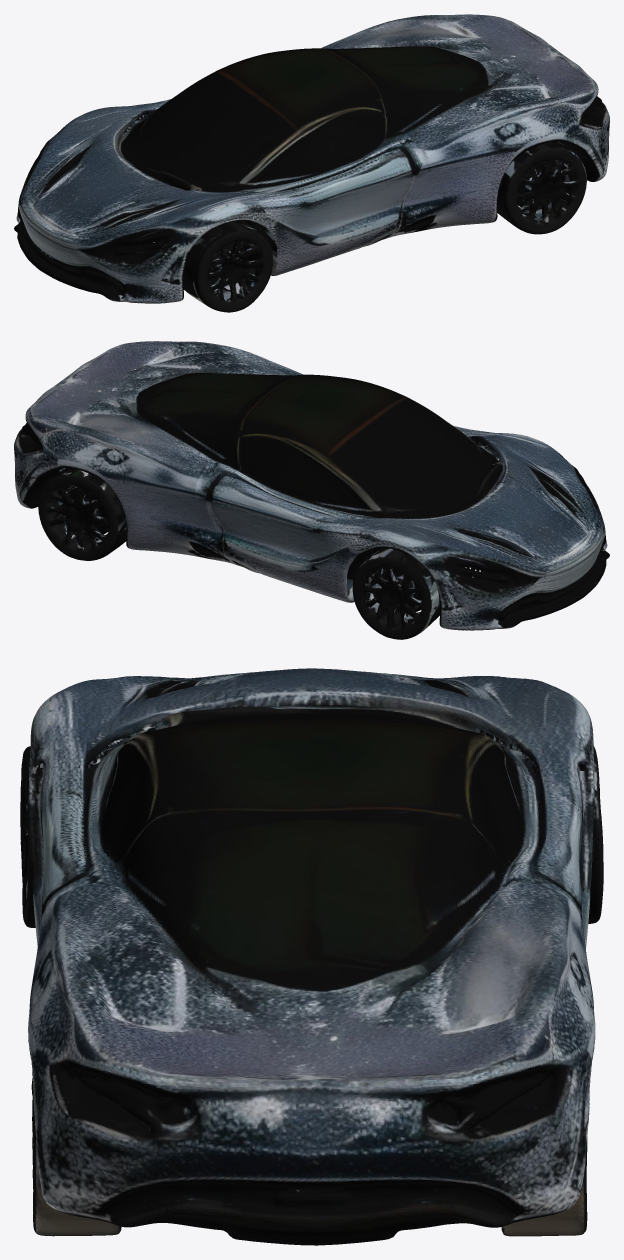
The model's file is mclaren720.glb.
3 views of the same model, one above another, from view 1: azimuth 30°, elevation 25°; view 2: azimuth 150°, elevation 25°; view 3: azimuth 270°, elevation 25° (orthographic). The views are drawn at different scales.
Visible parts, largest first — view 1: mclaren_final.glb; view 2: mclaren_final.glb; view 3: mclaren_final.glb.
Boxes of the visible parts, <box> form: mclaren_final.glb: <box>14,14,609,312</box>; mclaren_final.glb: <box>14,341,609,639</box>; mclaren_final.glb: <box>20,668,603,1245</box>.
Bounding box in the file's own units: 1.97 × 0.5361 × 0.926.
1 material, 1 textured.
